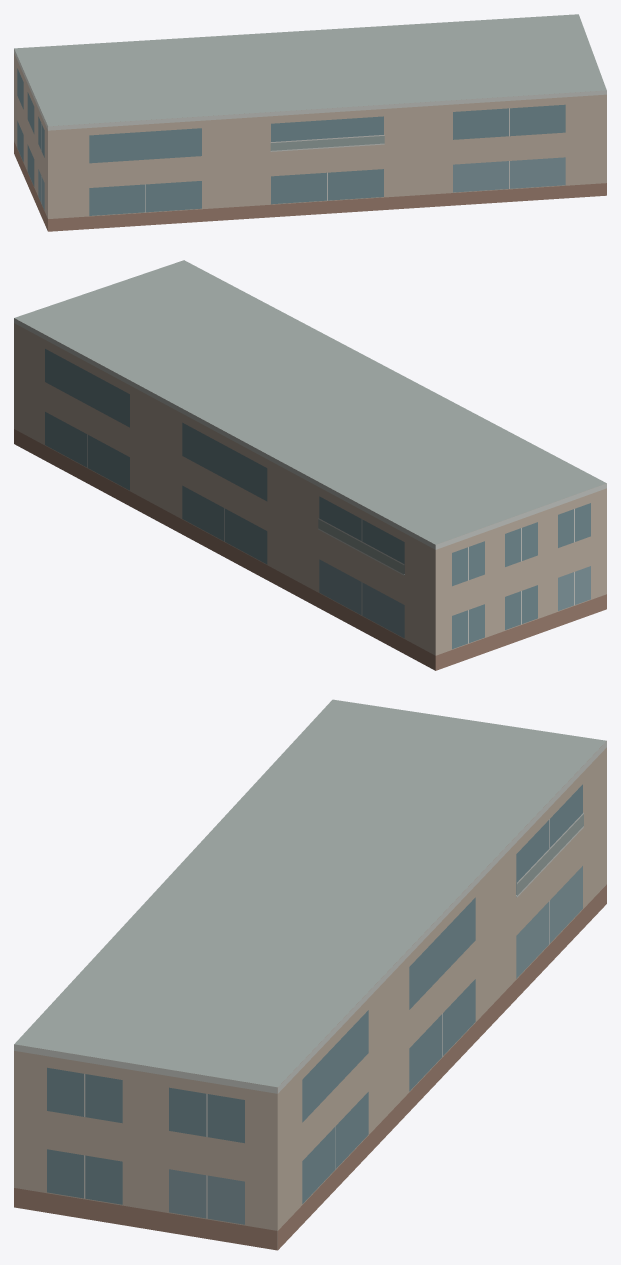
The model's file is survey-upis-32596166.glb.
3 views of the same model, one above another, from view 1: azimuth 30°, elevation 25°; view 2: azimuth 150°, elevation 25°; view 3: azimuth 270°, elevation 25° (orthographic). The views are drawn at different scales.
Parts seen in each view (by area): view 1: survey-upis-32596166.tmp; view 2: survey-upis-32596166.tmp; view 3: survey-upis-32596166.tmp.
Boxes of the visible parts, <box> form: survey-upis-32596166.tmp: <box>14,14,606,231</box>; survey-upis-32596166.tmp: <box>14,260,606,670</box>; survey-upis-32596166.tmp: <box>14,699,606,1250</box>.
Bounding box in the file's own units: 31.12 × 6.1 × 20.1.
